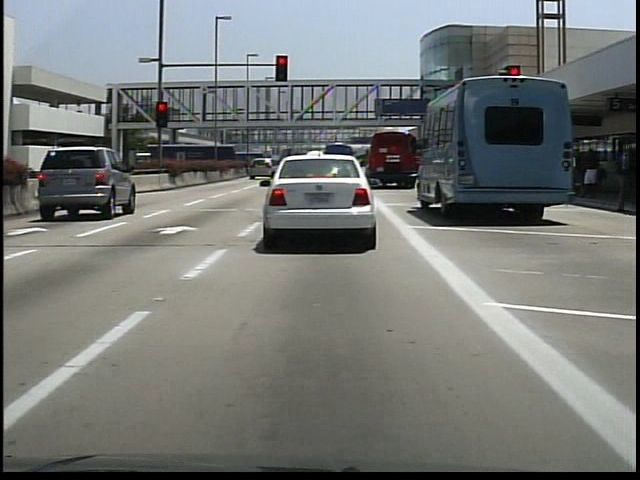person: (613, 153, 638, 214), (580, 147, 601, 200)
